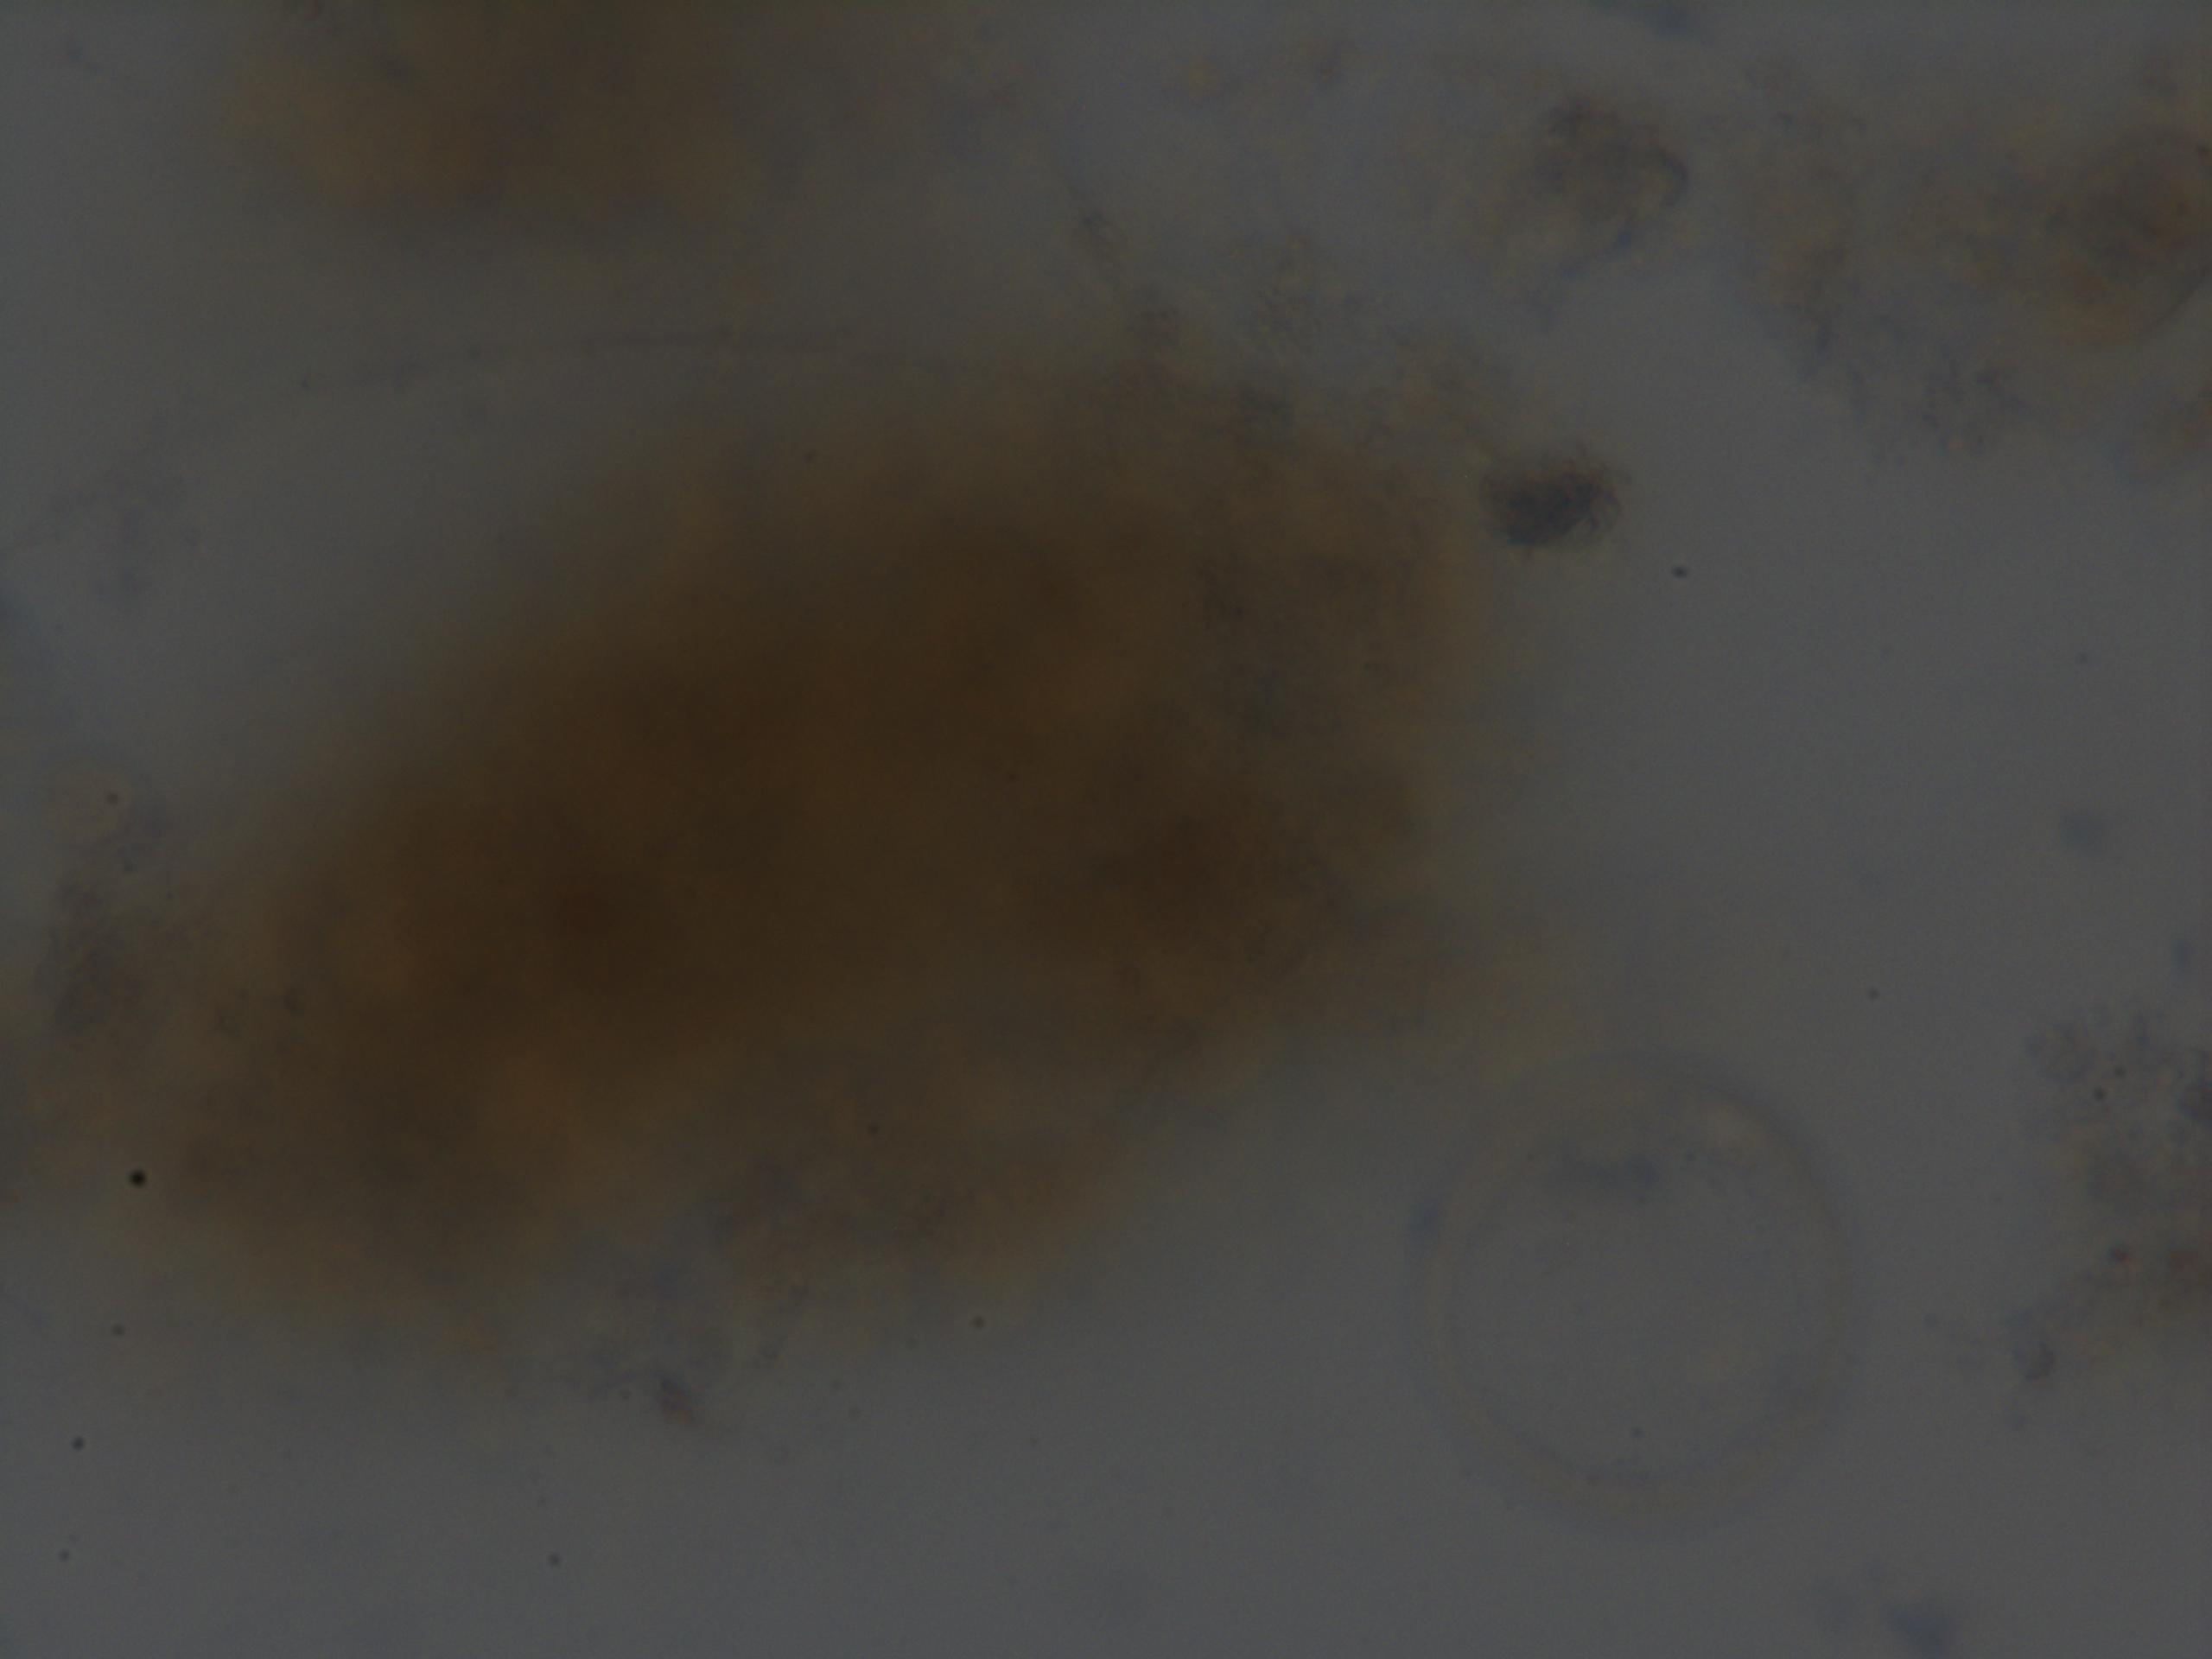spherical_floc: (0, 359, 1482, 1345)
